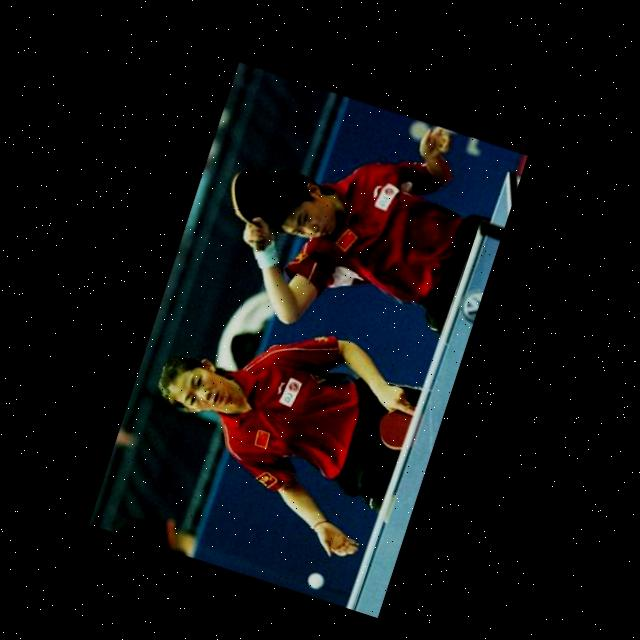ping-pong-ball: (301, 568, 327, 596)
